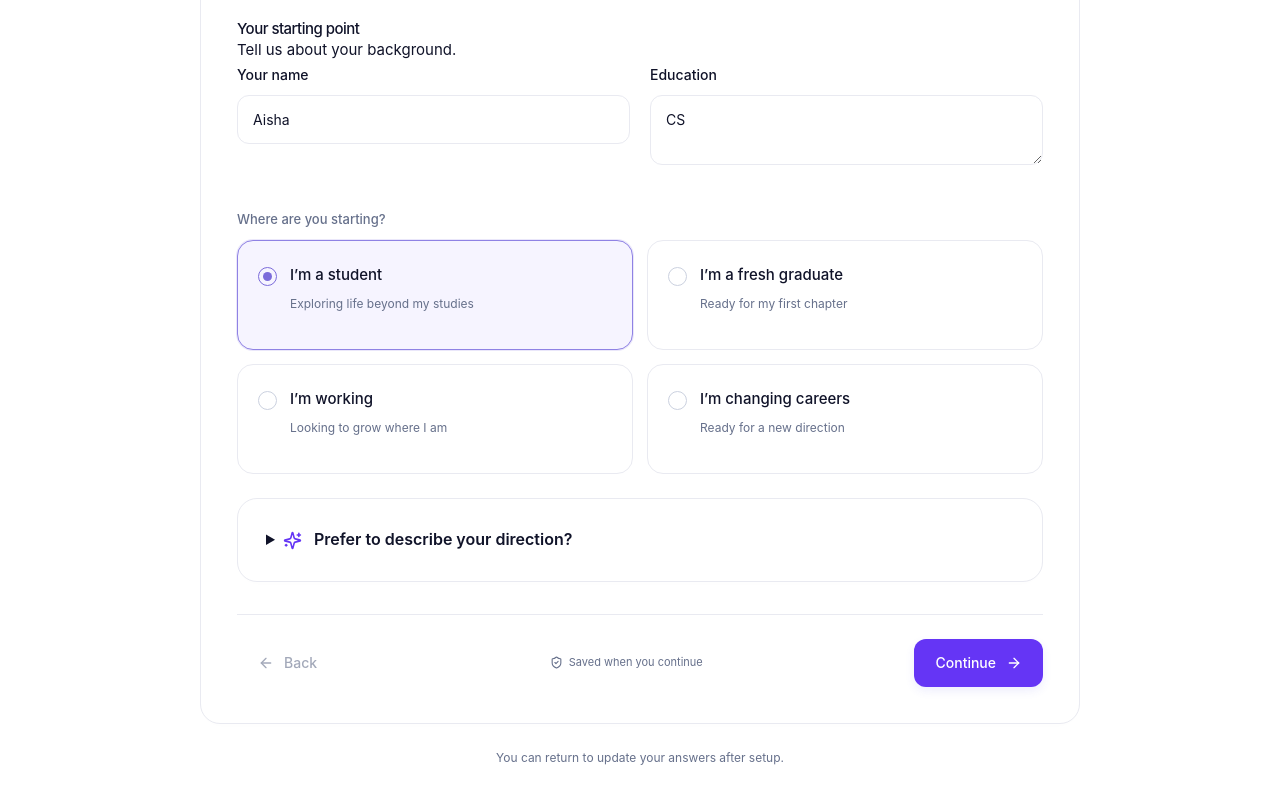
prototype flows › keeps an unsaved questionnaire step available to retry
This screenshot has width=1280, height=800.
(page scrolled)
Click the button "Continue": {"x": 979, "y": 663} top-left (914, 639), bottom-right (1043, 687)
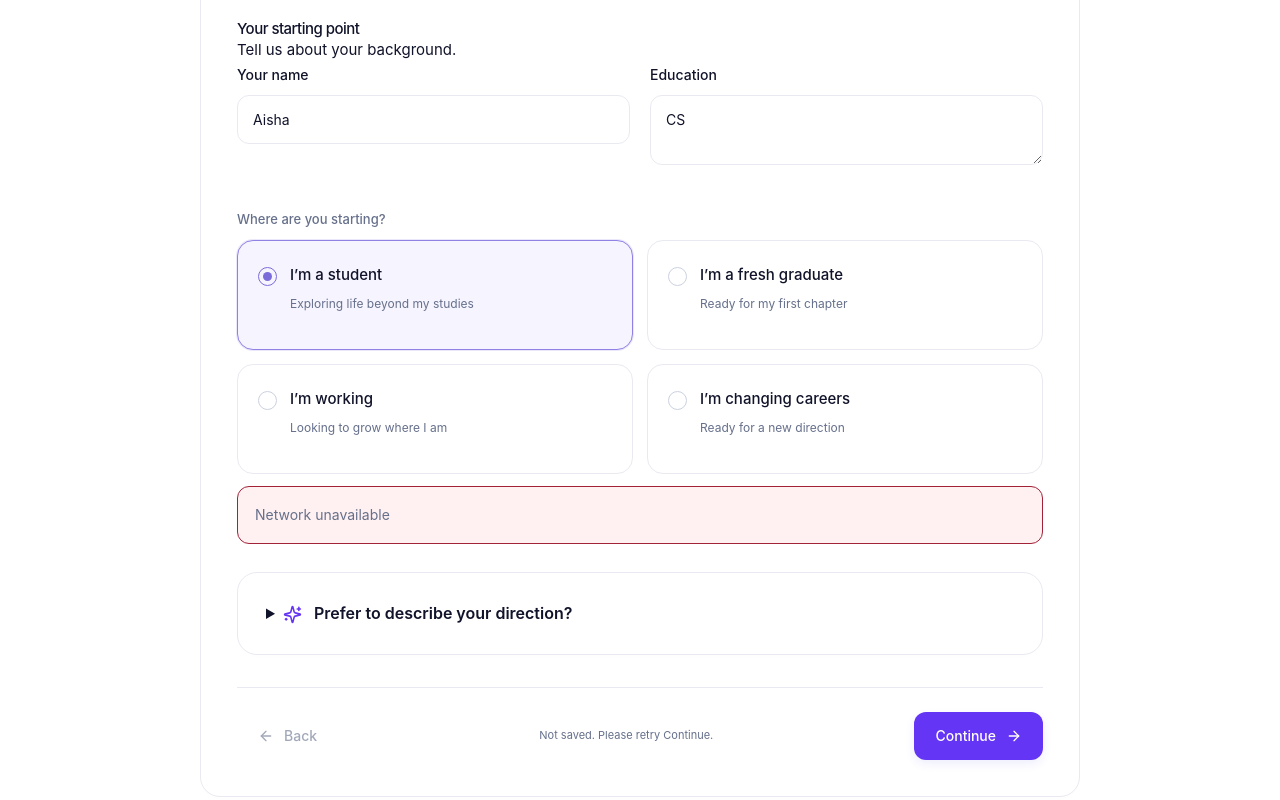
Check: the message "Network unavailable" is shown, box top-left (237, 486), bottom-right (1043, 544)
Check: the message "Not saved. Please retry Continue." is shown, box top-left (539, 727), bottom-right (713, 745)
Click the button "Continue": {"x": 979, "y": 736} top-left (914, 712), bottom-right (1043, 760)
(page scrolled)
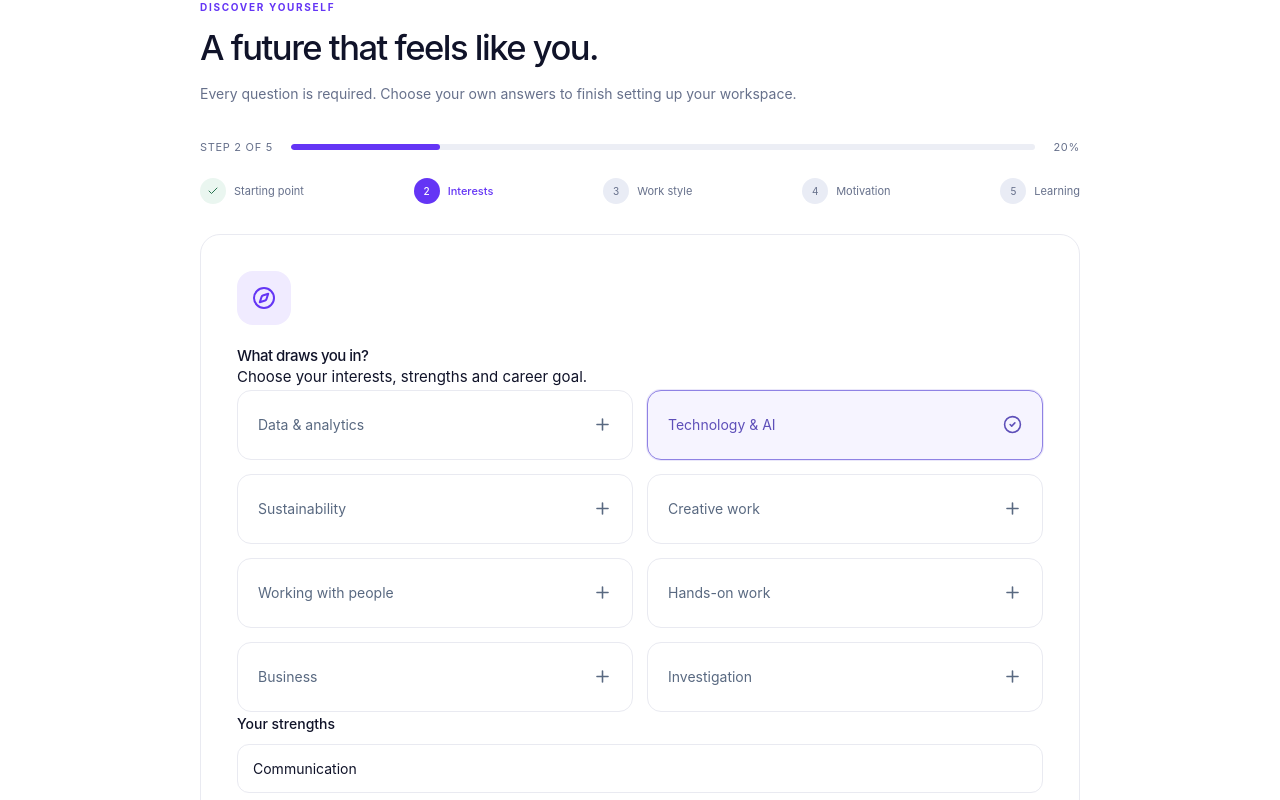
Check: the text "STEP 2 OF 5" is shown, box top-left (200, 138), bottom-right (273, 156)
